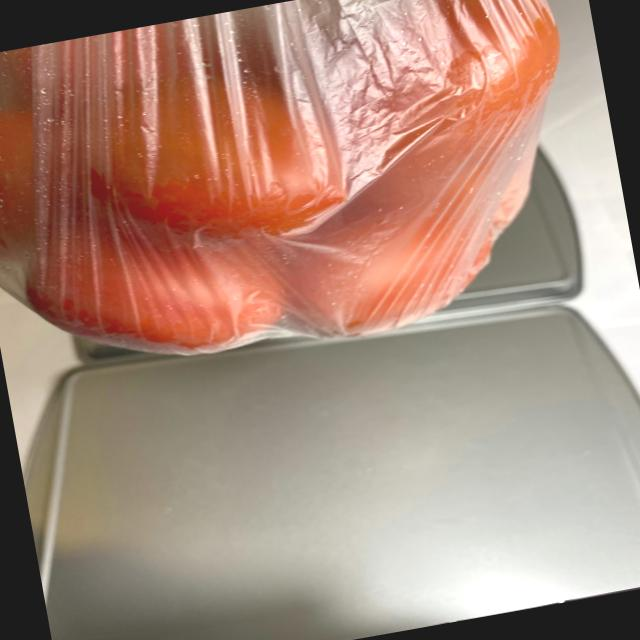tomato: (0, 0, 601, 395)
